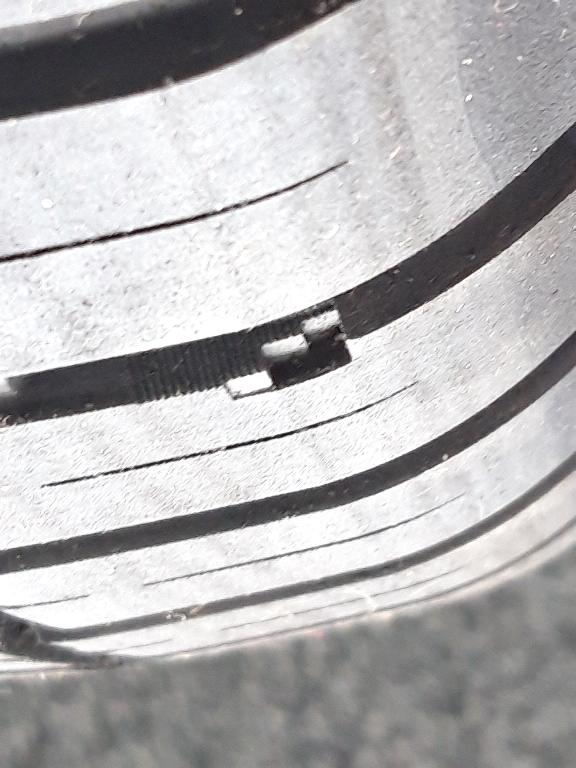temoin:50: (205, 296, 363, 408)
